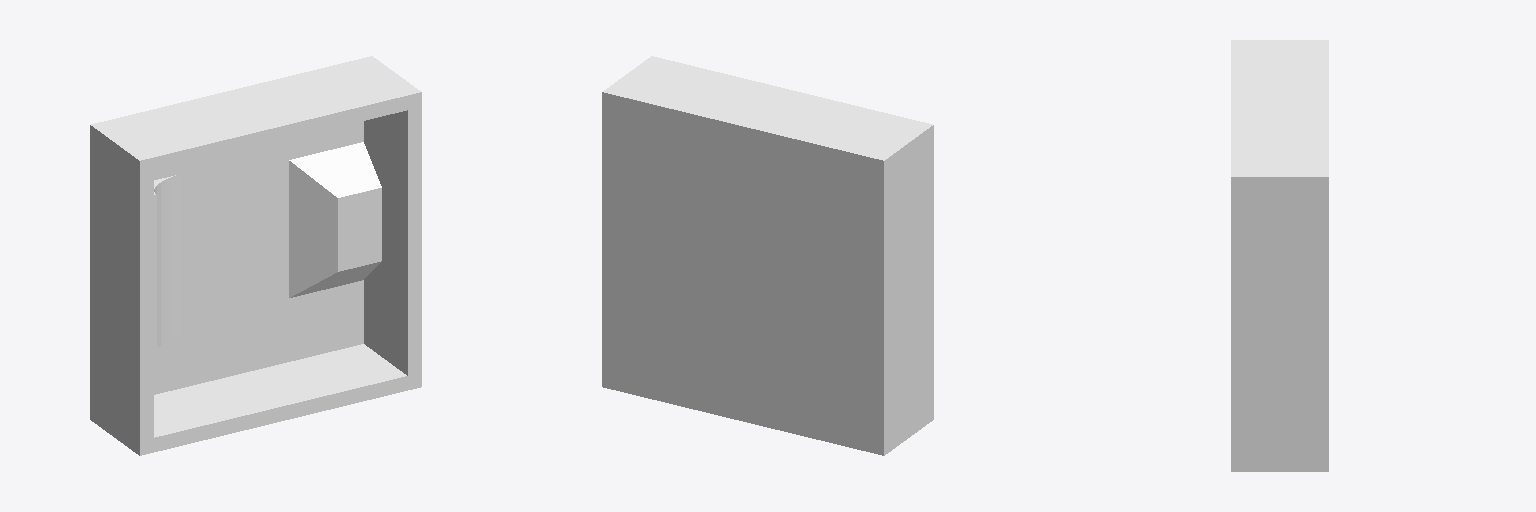
3 views of the same model, side by side, from view 1: azimuth 30°, elevation 25°; view 2: azimuth 150°, elevation 25°; view 3: azimuth 270°, elevation 25° (orthographic).
Bounding box in the file's own units: 16 × 16 × 4.86.
1 materials, 1 textured.